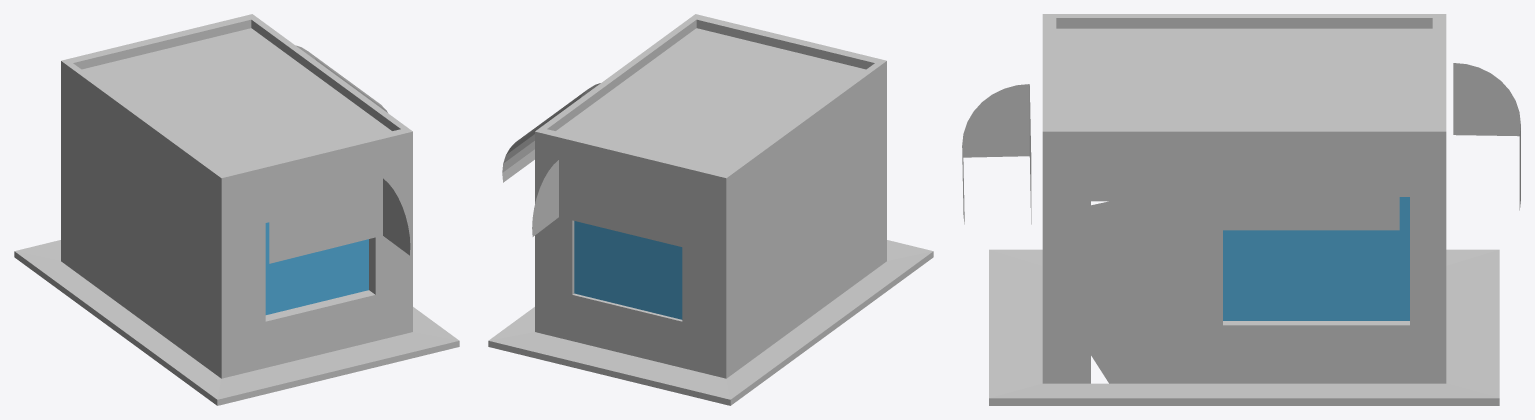
Rendered from storet.glb.
The picture shows the model from 3 angles, left to right: view 1: azimuth 30°, elevation 25°; view 2: azimuth 150°, elevation 25°; view 3: azimuth 270°, elevation 25°; orthographic projection. The views are drawn at different scales.
Visible parts, largest first — view 1: Cube; view 2: Cube; view 3: Cube.
Boxes of the visible parts, x1,y1,x2,y2 form: Cube: (14, 14, 459, 405); Cube: (488, 14, 933, 405); Cube: (962, 14, 1520, 405).
Size of the model in its own units: 5.75 by 4.22 by 8.26.
